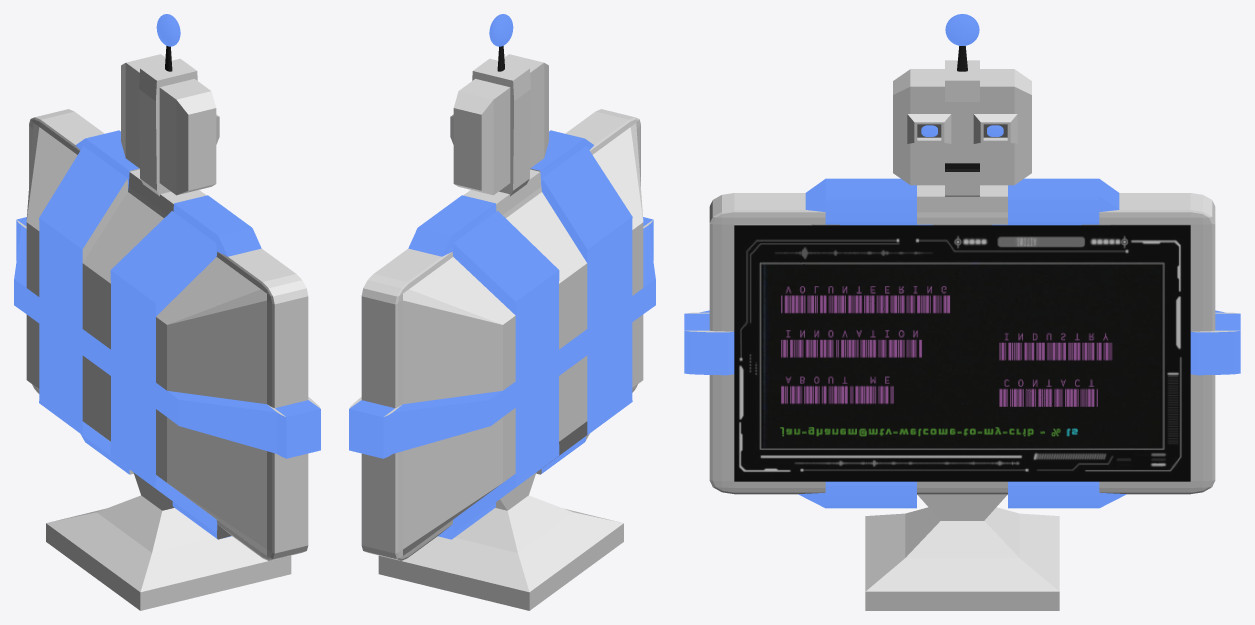
Rendered from robot-5.glb.
3 views of the same model, side by side, from view 1: azimuth 30°, elevation 25°; view 2: azimuth 150°, elevation 25°; view 3: azimuth 270°, elevation 25° (orthographic). The views are drawn at different scales.
Visible parts, largest first — view 1: Robot; view 2: Robot; view 3: Screen, Robot.
Part boxes in pixels (x1,y1,x2,y2): Robot: [14, 14, 320, 610]; Robot: [349, 14, 655, 610]; Screen: [734, 225, 1190, 481]; Robot: [684, 14, 1240, 610].
Bounding box in the file's own units: 13.7 × 47.12 × 42.52.
Materials: 6 (1 with a texture image).
